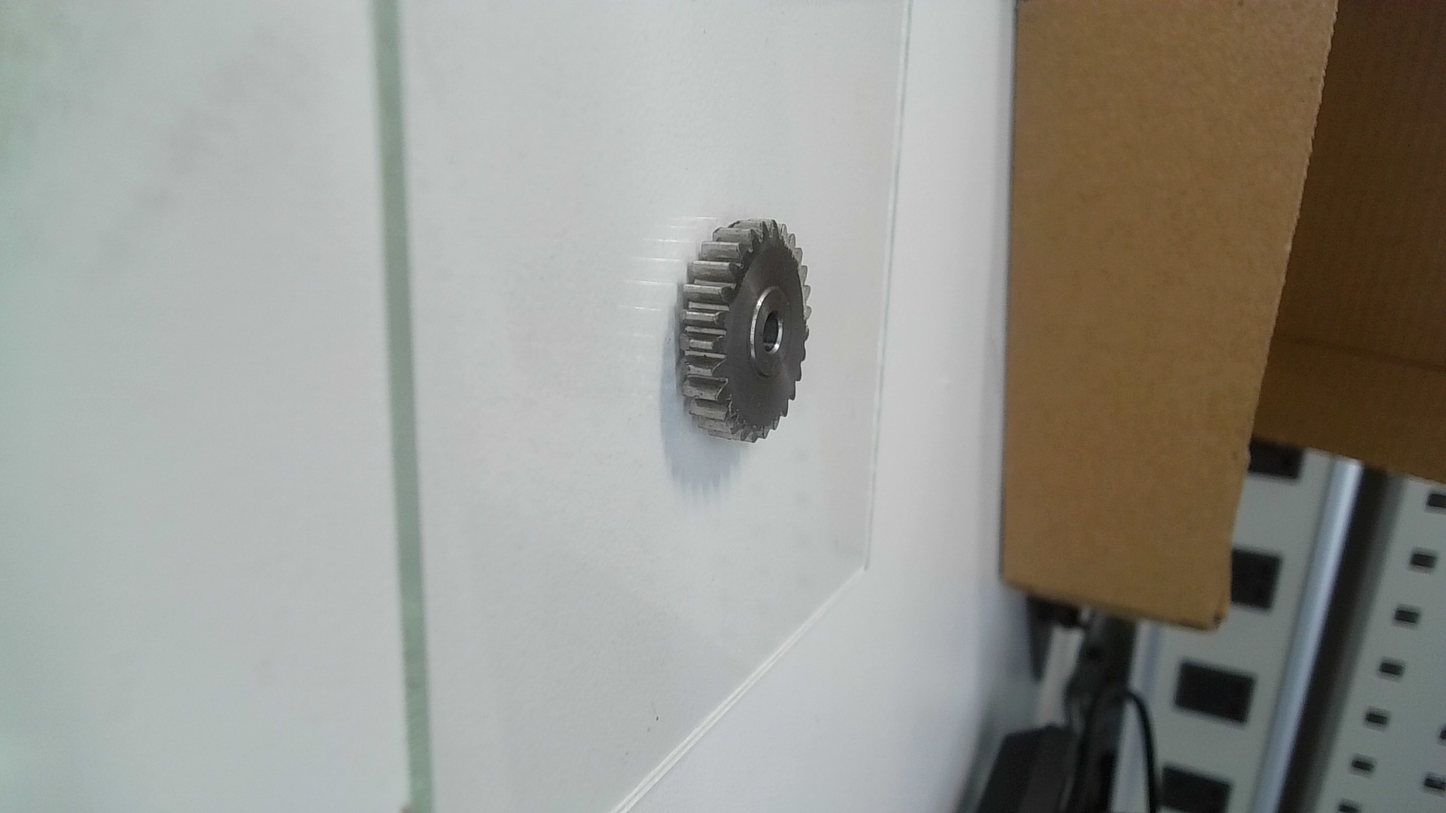gear: (676, 216, 816, 448)
